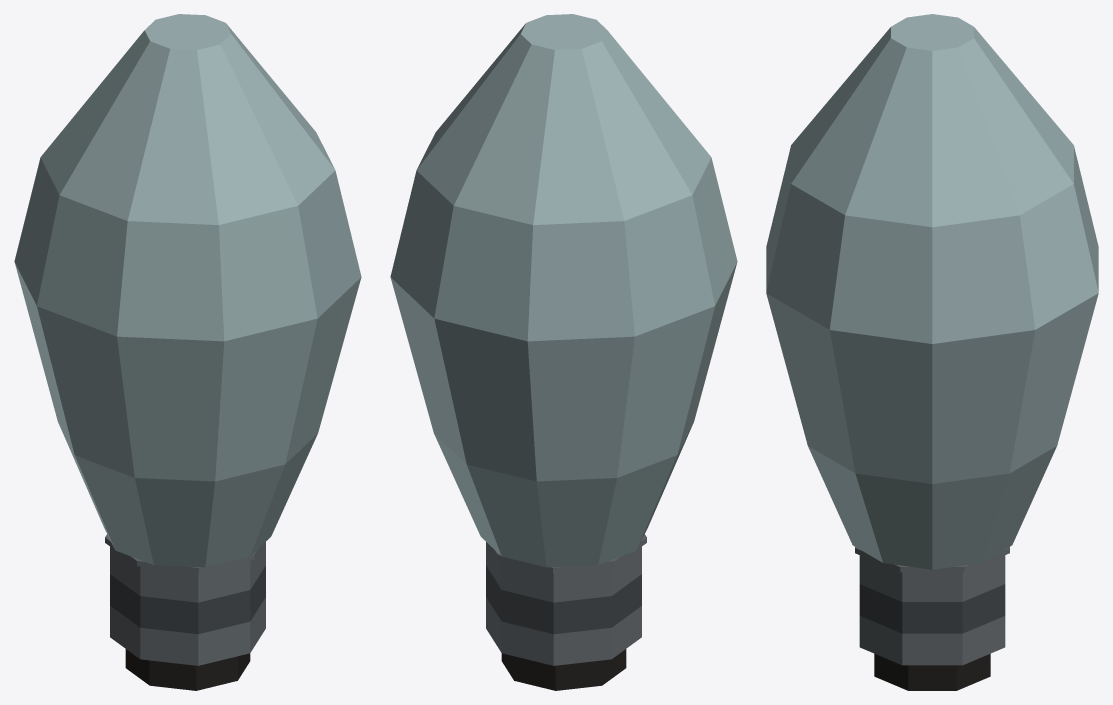
File: lightbulb_nakalivaniya_idle.glb
3 renders of one model, left to right at view 1: azimuth 30°, elevation 25°; view 2: azimuth 150°, elevation 25°; view 3: azimuth 270°, elevation 25°, orthographic.
Parts seen in each view (by area): view 1: lightbulb_nakalivaniya_idle; view 2: lightbulb_nakalivaniya_idle; view 3: lightbulb_nakalivaniya_idle.
Boxes of the visible parts, box(x1,y1,x2,y2) form: lightbulb_nakalivaniya_idle: box(14, 14, 361, 690); lightbulb_nakalivaniya_idle: box(390, 14, 737, 690); lightbulb_nakalivaniya_idle: box(766, 14, 1098, 690).
Size of the model in its own units: 0.06 by 0.12 by 0.0571.
1 material, 1 textured.
